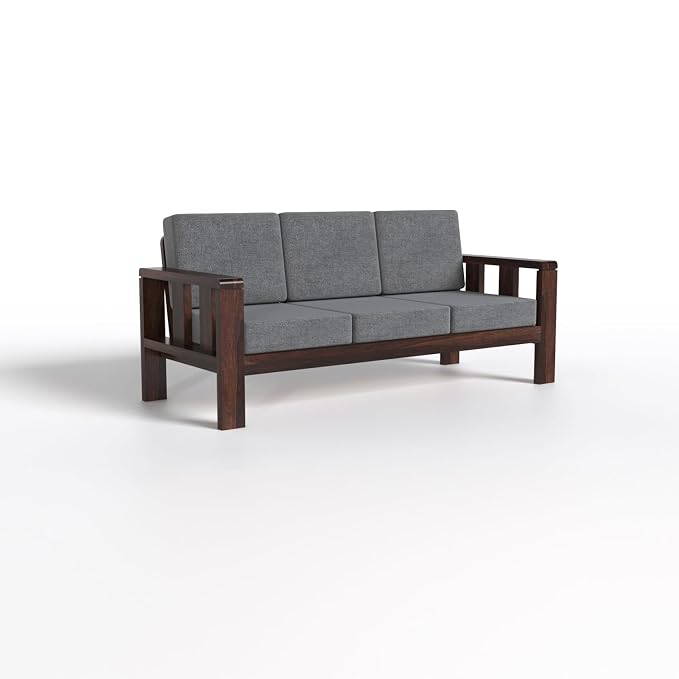backrest: (162, 213, 462, 300)
base: (250, 327, 547, 373)
leftarmrest: (467, 255, 558, 337)
leg: (215, 375, 252, 430), (142, 355, 173, 405), (532, 340, 557, 380), (442, 347, 462, 370)
rightarmrest: (140, 265, 243, 375)
seat: (245, 288, 540, 352)
